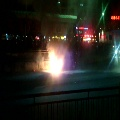fire: (46, 50, 63, 75)
